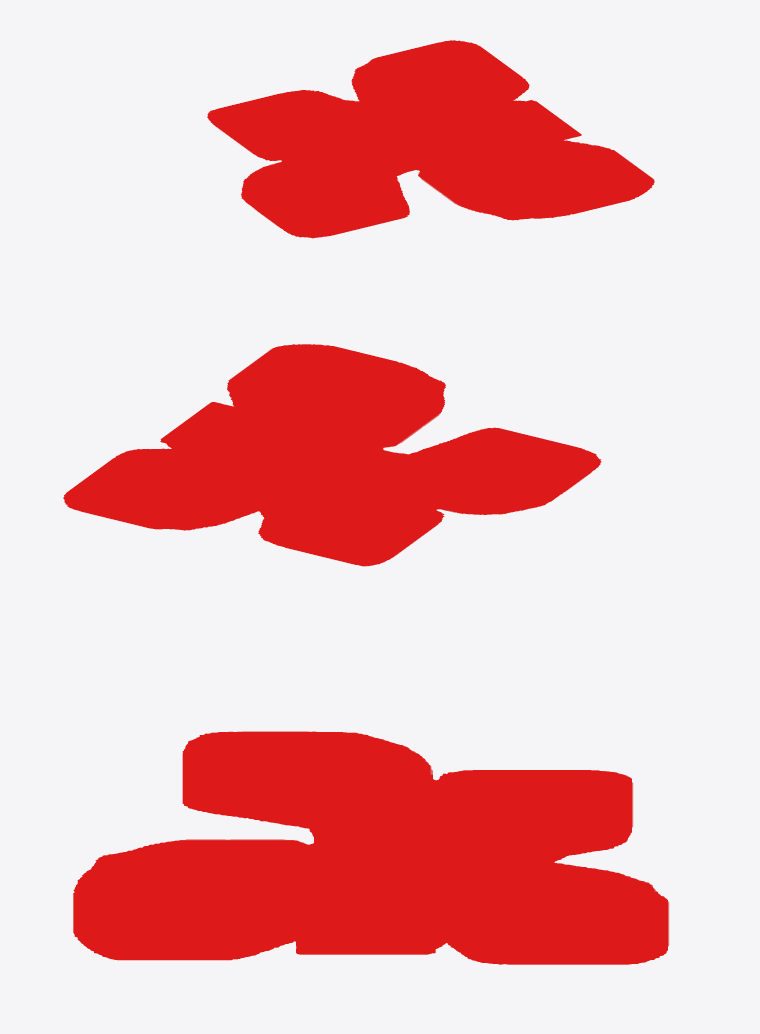
Rendered from DecaleK.FBX.
The picture shows the model from 3 angles, top to bottom: view 1: azimuth 30°, elevation 25°; view 2: azimuth 150°, elevation 25°; view 3: azimuth 270°, elevation 25°; orthographic projection. The views are drawn at different scales.
Parts seen in each view (by area): view 1: Object017; view 2: Object017; view 3: Object017.
Part boxes in pixels (x1,y1,x2,y2): Object017: [207, 40, 654, 238]; Object017: [63, 344, 601, 566]; Object017: [73, 731, 669, 964].
Size of the model in its own units: 2.1 by 1.48e-07 by 1.86.
